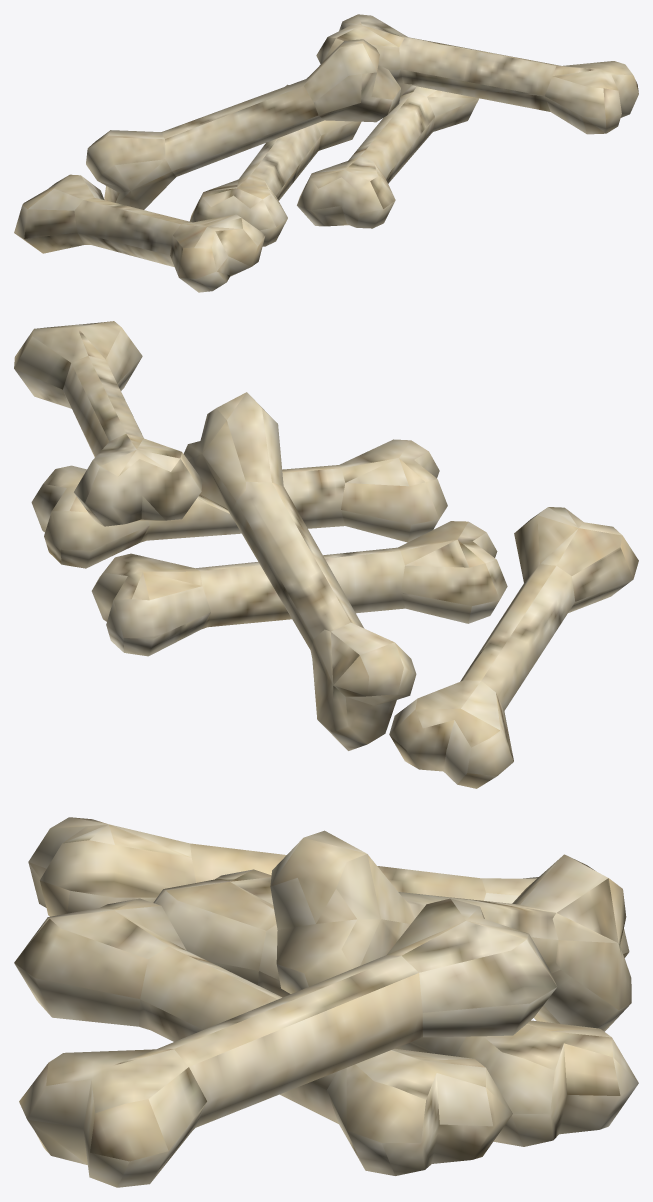
The model's file is bone_3_3.fbx.
3 renders of one model, top to bottom at view 1: azimuth 30°, elevation 25°; view 2: azimuth 150°, elevation 25°; view 3: azimuth 270°, elevation 25°, orthographic. The views are drawn at different scales.
Parts seen in each view (by area): view 1: Sphere012_Material #219_0.017; view 2: Sphere012_Material #219_0.017; view 3: Sphere012_Material #219_0.017.
Part boxes in pixels (x1,y1,x2,y2): Sphere012_Material #219_0.017: (14, 14, 638, 292); Sphere012_Material #219_0.017: (14, 321, 638, 788); Sphere012_Material #219_0.017: (14, 817, 638, 1187).
Size of the model in its own units: 2120 by 786 by 1226.
